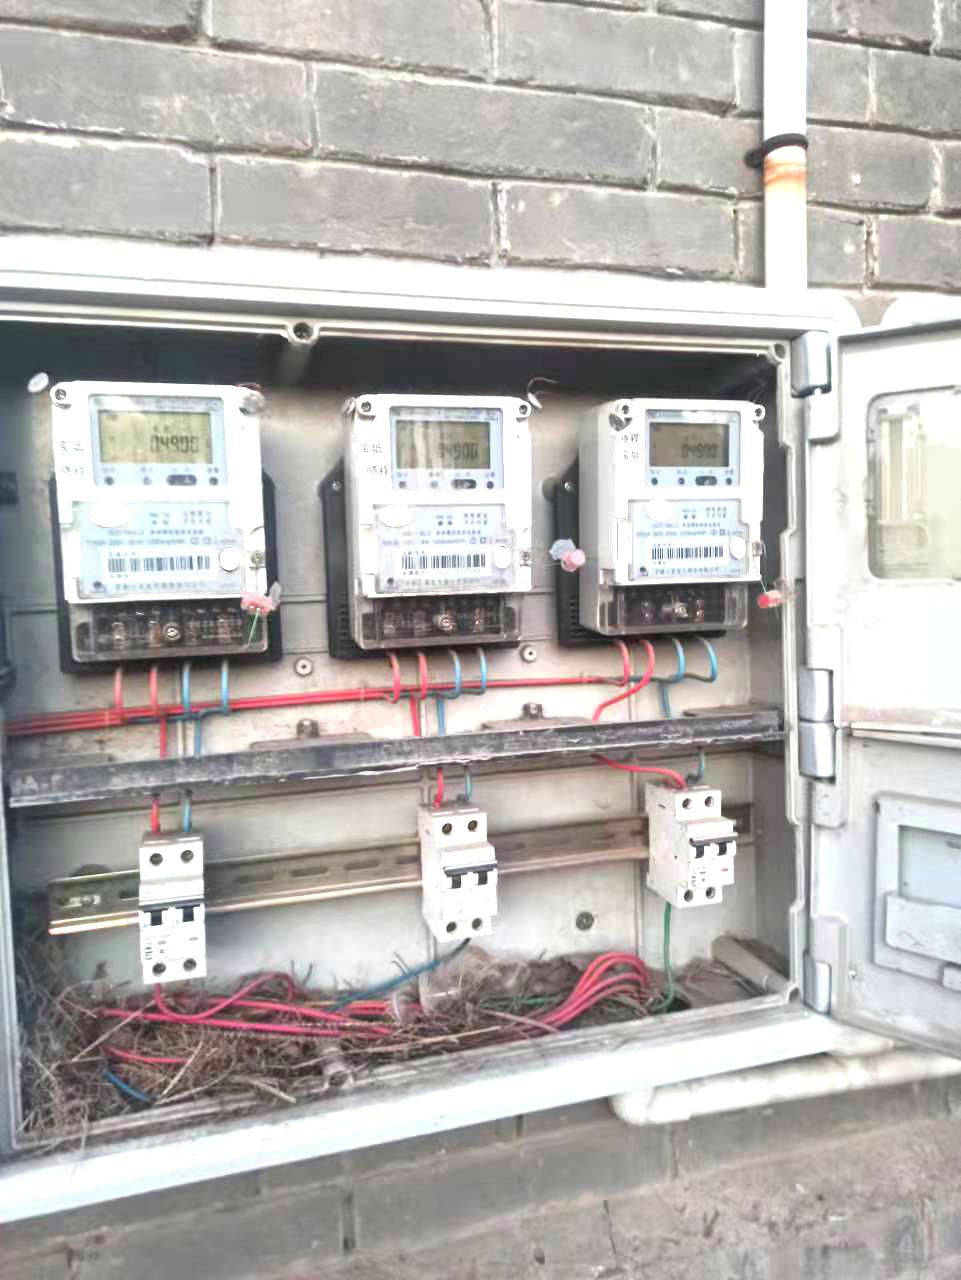digital: (47, 378, 272, 607), (352, 392, 529, 598), (599, 399, 764, 585)
